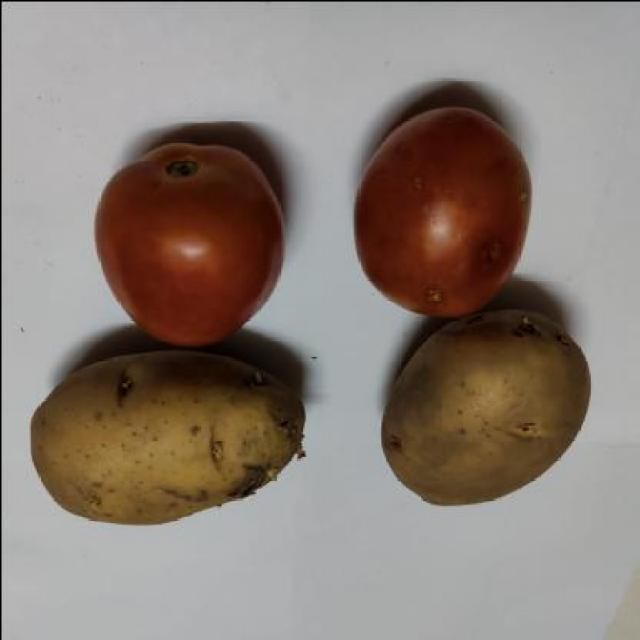Potato: (3, 342, 320, 538), (369, 288, 603, 526)
Tomato: (338, 85, 564, 326), (88, 122, 306, 364)
